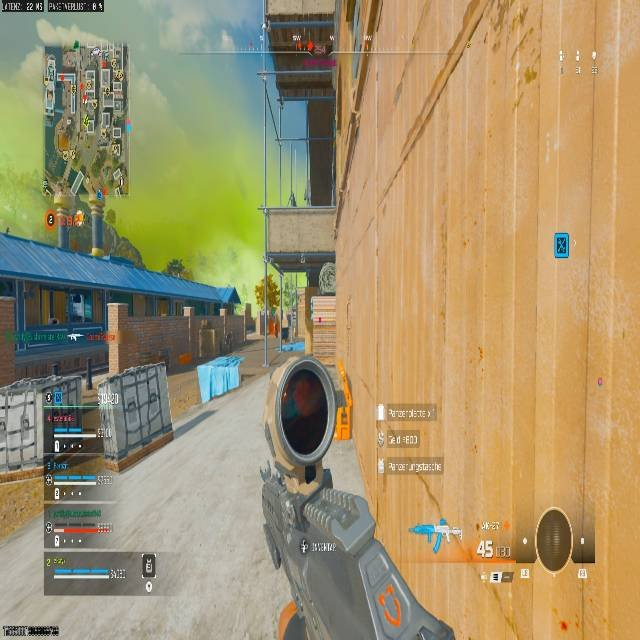player: (274, 316, 287, 343)
